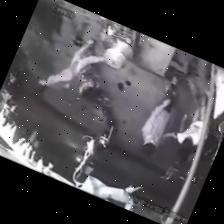person: (40, 39, 104, 87), (164, 98, 206, 160), (142, 82, 176, 154)
